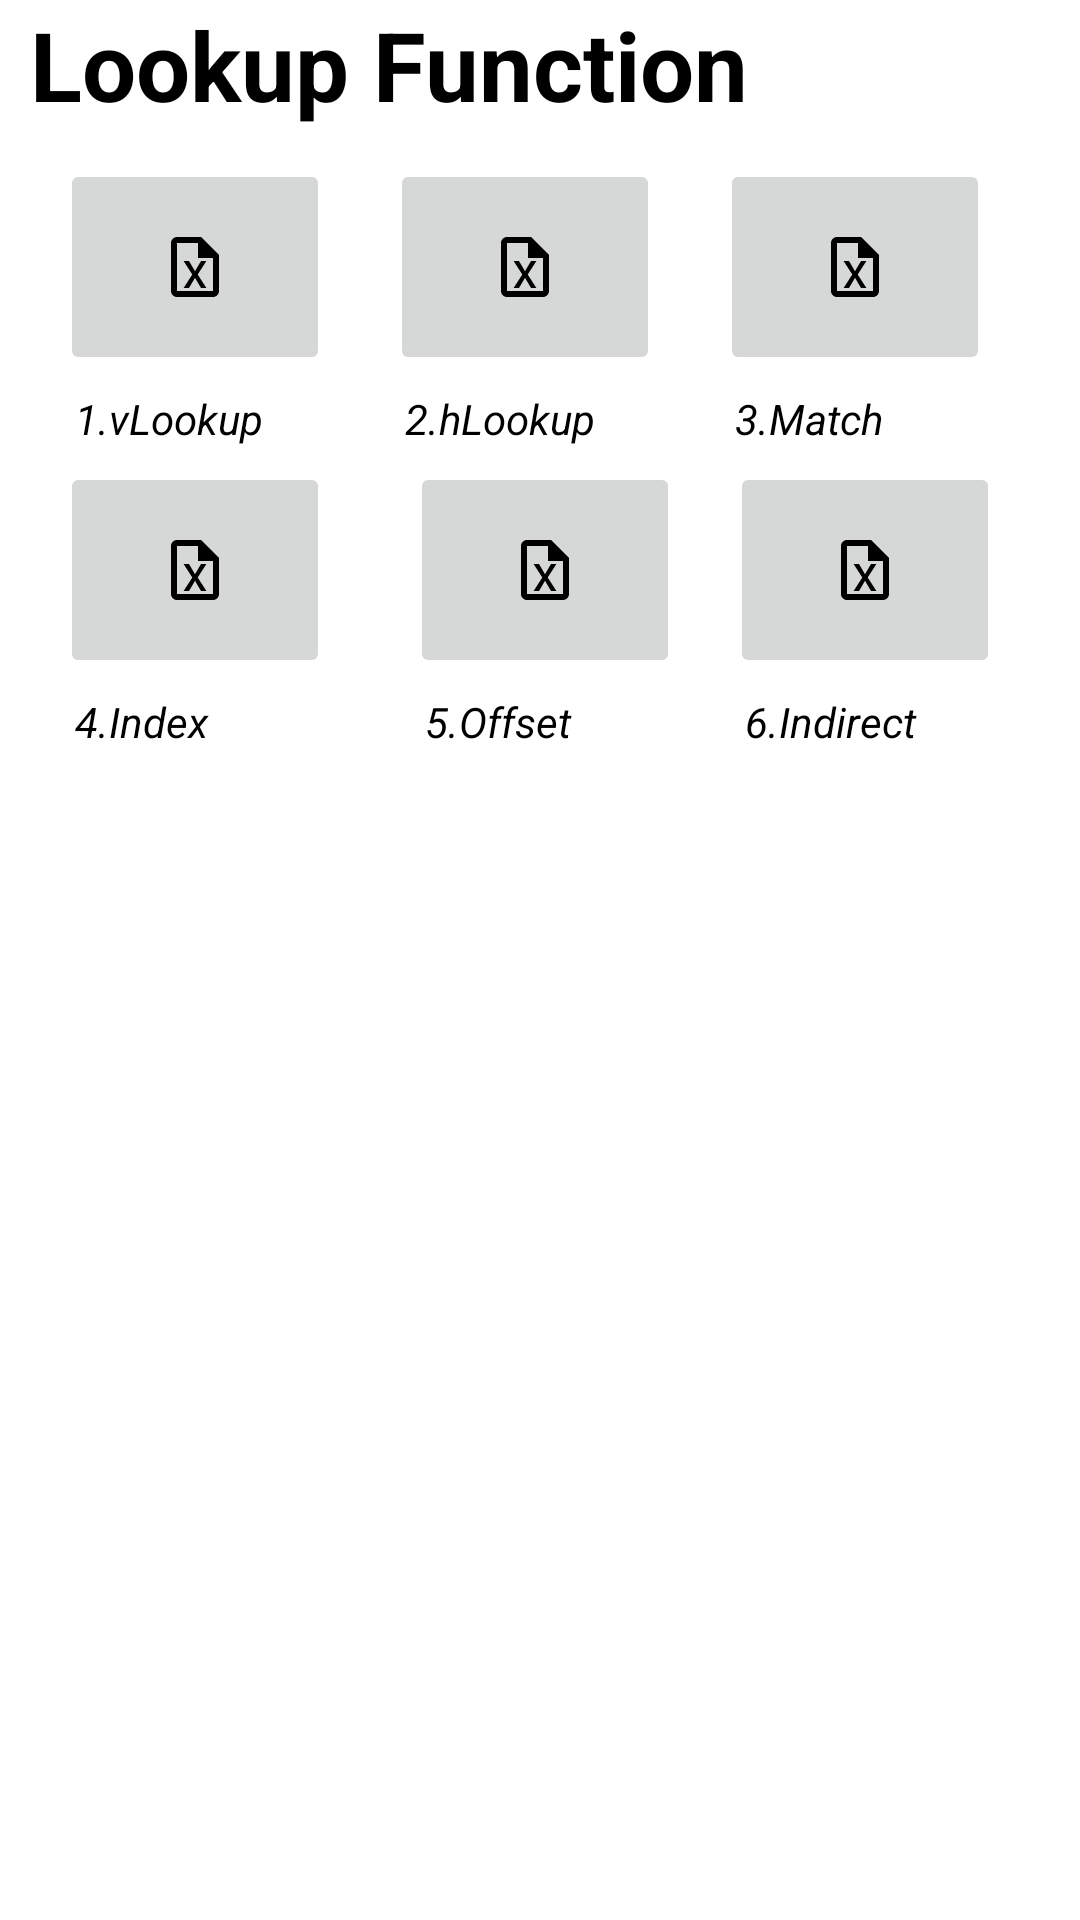

Where to tap for icons on this 1080 × 1920 app screen, as (x,y):
file excel: (195,267), (525,267), (855,267), (195,570), (545,570), (865,570)
